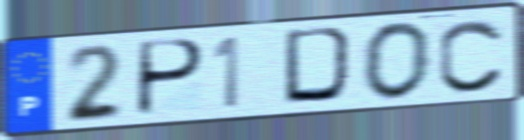1: (211, 34, 242, 112)
2: (62, 42, 128, 126)
C: (436, 16, 508, 95)
D: (281, 24, 361, 107)
O: (359, 20, 434, 103)
P: (134, 36, 209, 119)
